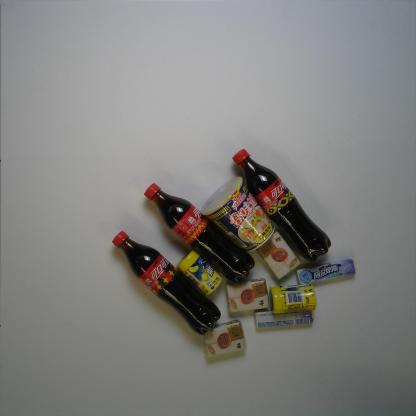Candy: (296, 256, 357, 287), (254, 310, 315, 328)
Drink: (229, 146, 335, 261), (110, 228, 222, 333), (144, 182, 256, 286)
Gum: (175, 249, 222, 298), (269, 283, 318, 315)
Instant Noodles: (198, 175, 278, 252)
Tissue: (256, 230, 301, 281), (200, 321, 248, 359), (224, 278, 270, 314)
